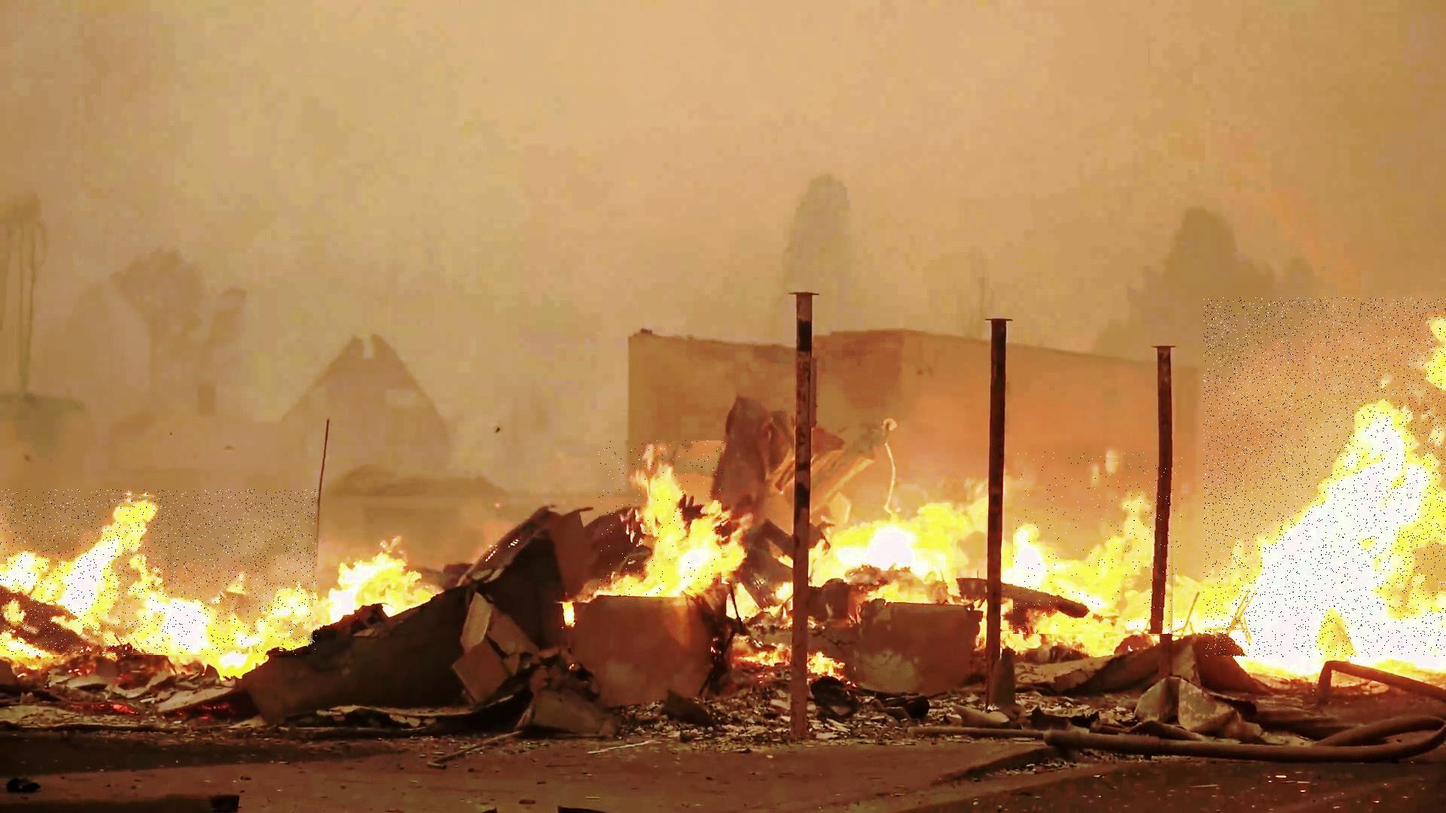fire: (1203, 298, 1446, 658), (0, 490, 317, 655), (1013, 452, 1183, 634), (599, 441, 724, 595)
